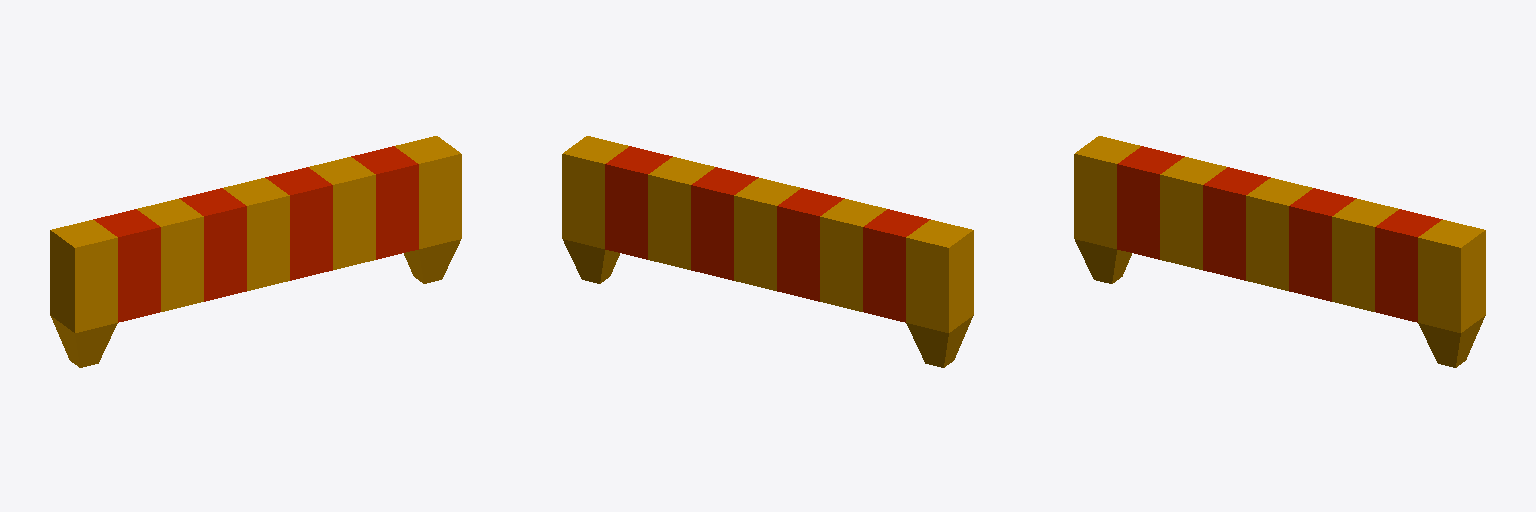
File: PunkBarrierLow.obj
3 renders of one model, left to right at view 1: azimuth 30°, elevation 25°; view 2: azimuth 150°, elevation 25°; view 3: azimuth 330°, elevation 25°, orthographic.
Parts seen in each view (by area): view 1: Cube.001_Cube.002; view 2: Cube.001_Cube.002; view 3: Cube.001_Cube.002.
Boxes of the visible parts, x1=… form: Cube.001_Cube.002: x1=50, y1=136, x2=461, y2=367; Cube.001_Cube.002: x1=562, y1=136, x2=973, y2=367; Cube.001_Cube.002: x1=1074, y1=136, x2=1485, y2=367.
Size of the model in its own units: 8 by 2.54 by 0.8843.